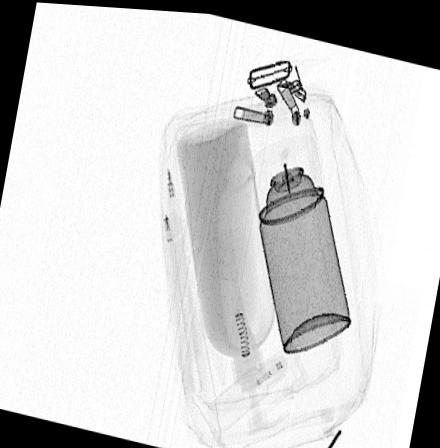Sprayer: (247, 121, 350, 350)
